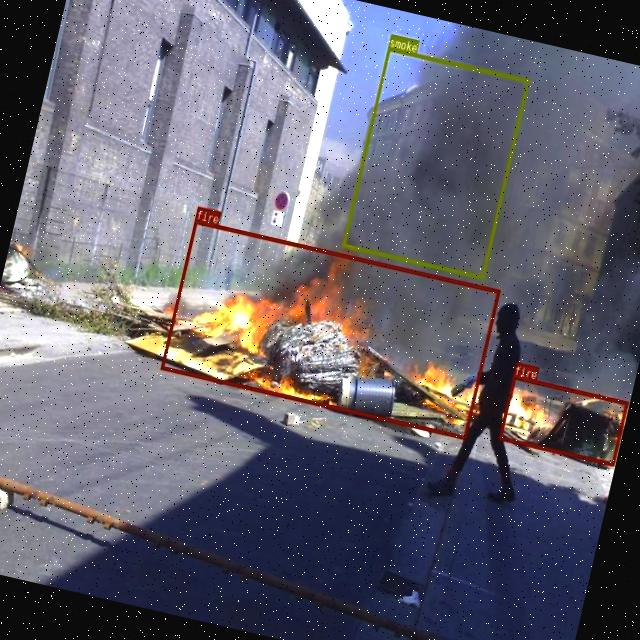fire: (160, 220, 499, 438), (498, 374, 628, 465)
smoke: (341, 46, 529, 279)
